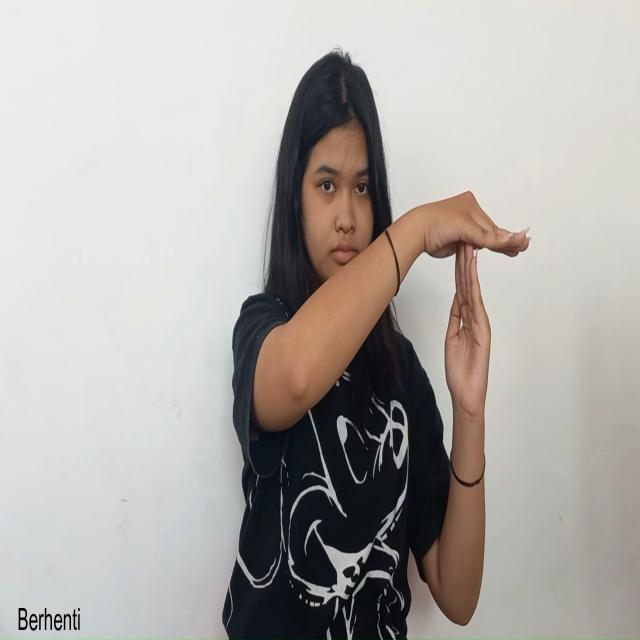Berhenti -BISINDO-: (413, 186, 534, 438)
